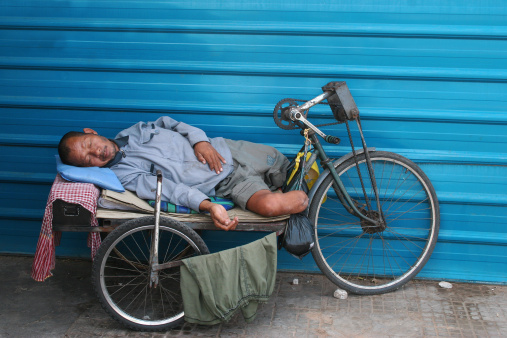deitado: (22, 105, 361, 283)
